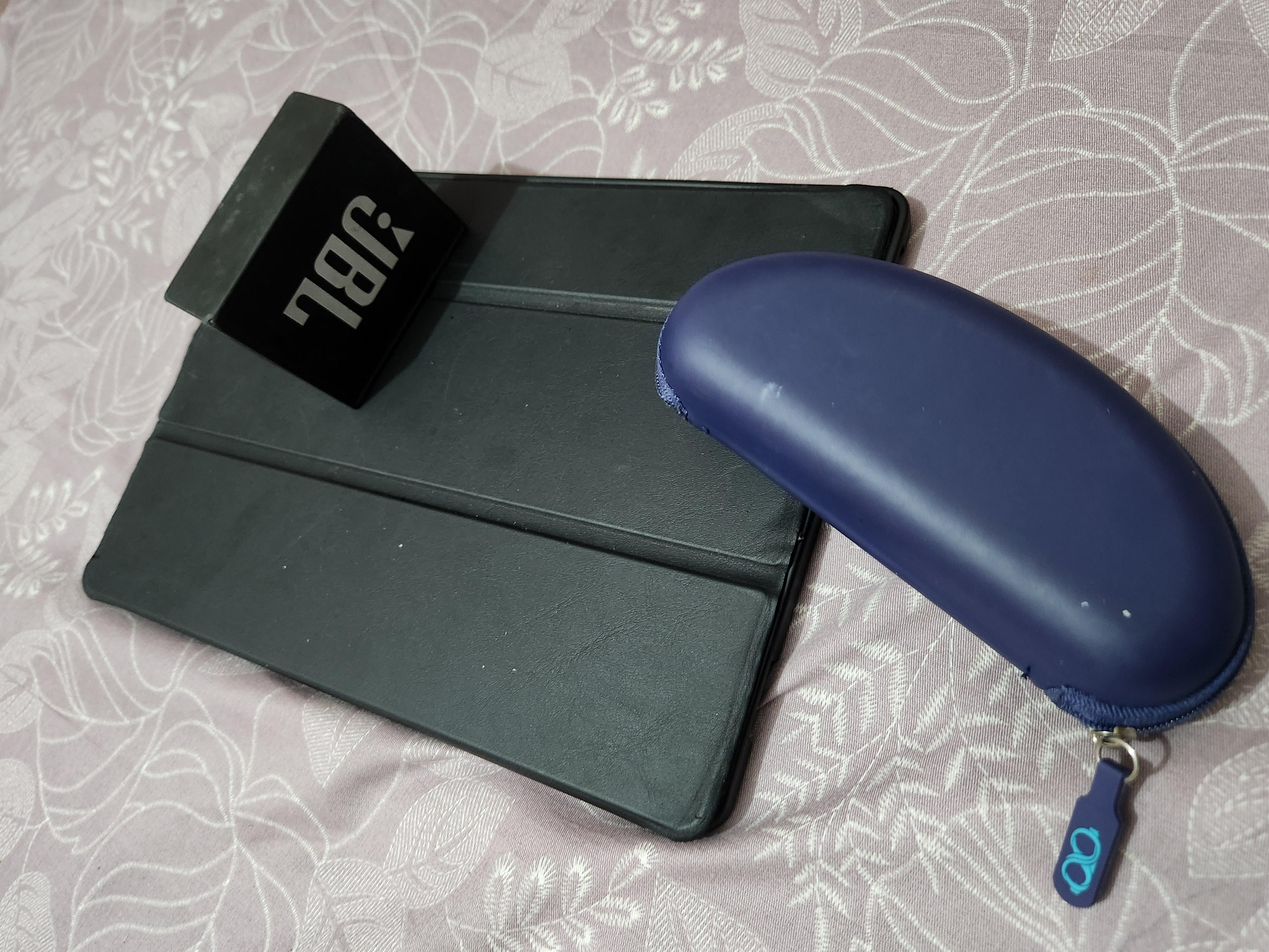case: (59, 488, 942, 947)
speaker: (719, 120, 1145, 345)
